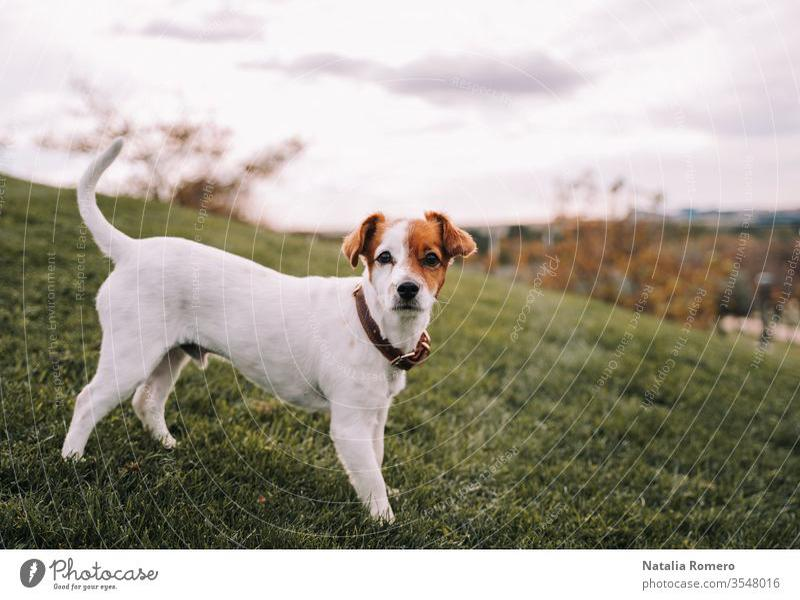dog_stand: (56, 135, 482, 540)
